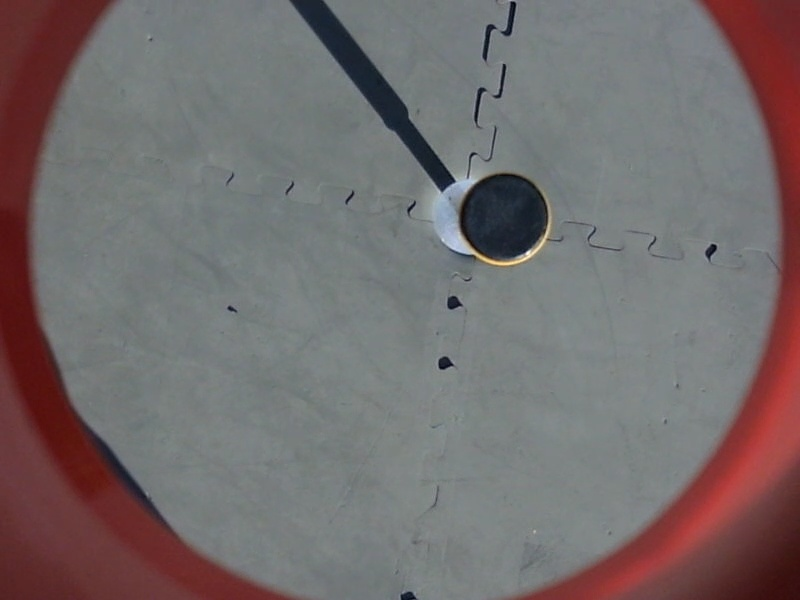tip: (453, 166, 555, 265)
